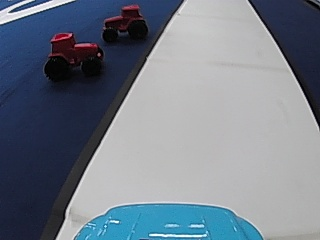tractor: (42, 30, 103, 80), (98, 3, 149, 42)
